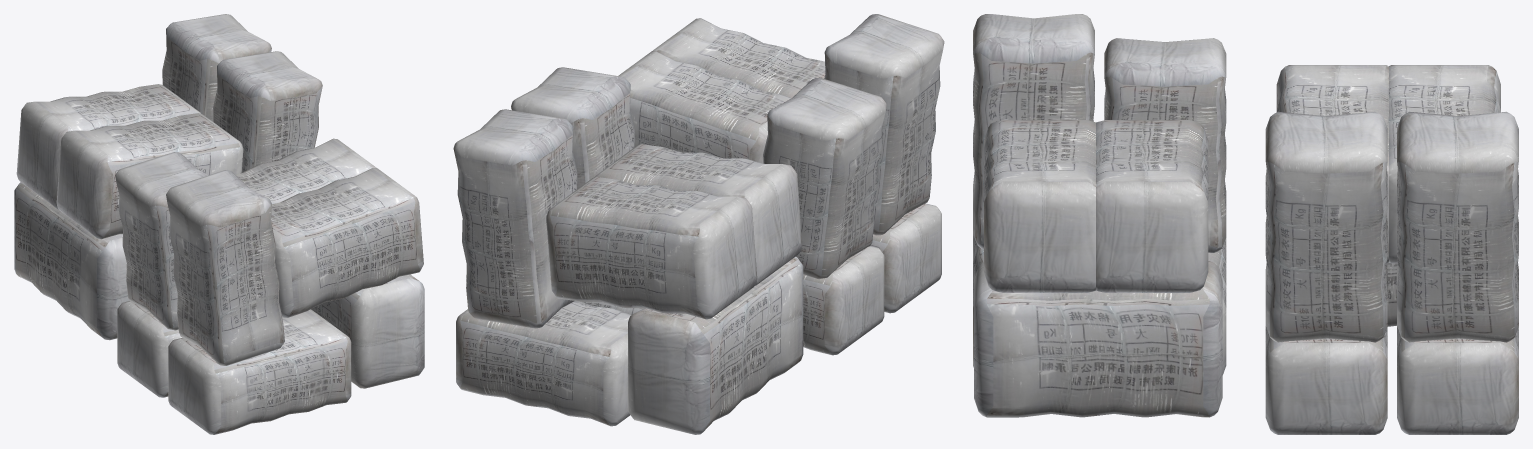
File: mianru.FBX
3 views of the same model, side by side, from view 1: azimuth 30°, elevation 25°; view 2: azimuth 150°, elevation 25°; view 3: azimuth 270°, elevation 25° (orthographic). The views are drawn at different scales.
Parts seen in each view (by area): view 1: Box8416; view 2: Box8416; view 3: Box8416.
Part boxes in pixels (box(x1,y1,x2,y2)): Box8416: box(14, 14, 424, 434); Box8416: box(453, 14, 944, 434); Box8416: box(973, 14, 1518, 434).
Bounding box in the file's own units: 1.02 × 1.6 × 0.9505.
